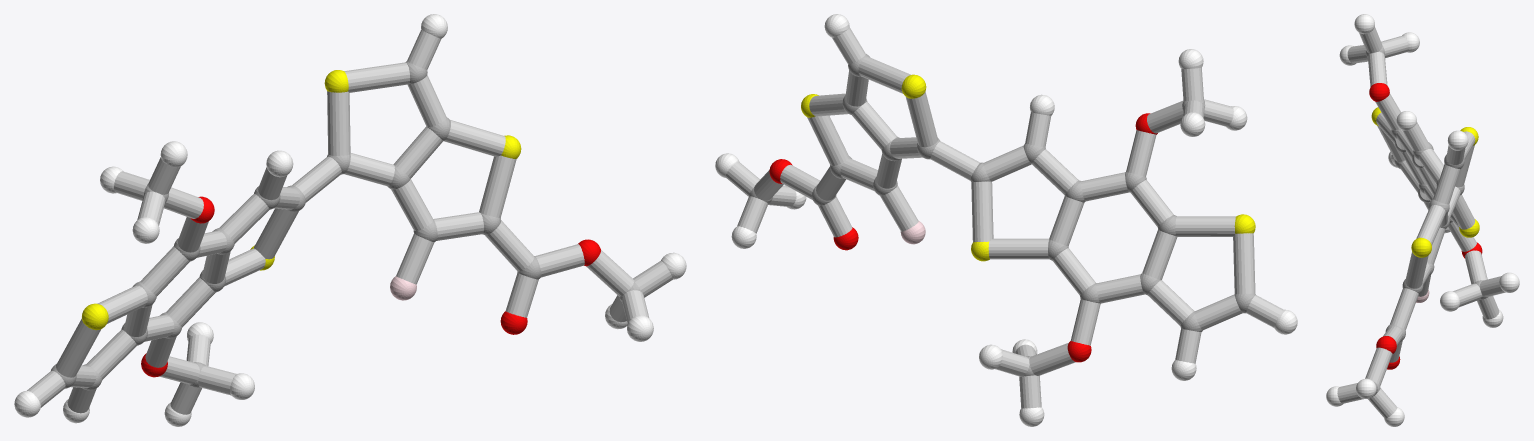
File: color.glb
3 renders of one model, left to right at view 1: azimuth 30°, elevation 25°; view 2: azimuth 150°, elevation 25°; view 3: azimuth 270°, elevation 25°, orthographic. The views are drawn at different scales.
Parts seen in each view (by area): view 1: grp15205, grp8689, grp1, grp7241, grp13395; view 2: grp15205, grp8689, grp1, grp7241, grp13395; view 3: grp15205, grp8689, grp1, grp7241, grp13395.
Boxes of the visible parts, x1,y1,x2,y2 form: grp15205: [27, 29, 672, 414]; grp8689: [14, 14, 686, 426]; grp1: [51, 61, 641, 390]; grp7241: [82, 70, 521, 330]; grp13395: [141, 196, 600, 377]; grp15205: [725, 27, 1283, 408]; grp8689: [715, 14, 1297, 426]; grp1: [749, 54, 1255, 376]; grp7241: [801, 74, 1255, 261]; grp13395: [769, 113, 1157, 362]; grp15205: [1337, 26, 1505, 418]; grp8689: [1326, 14, 1519, 426]; grp1: [1365, 46, 1487, 392]; grp7241: [1371, 107, 1479, 257]; grp13395: [1369, 83, 1482, 369].
Bounding box in the file's own units: 16.59 × 9.07 × 5.63.
